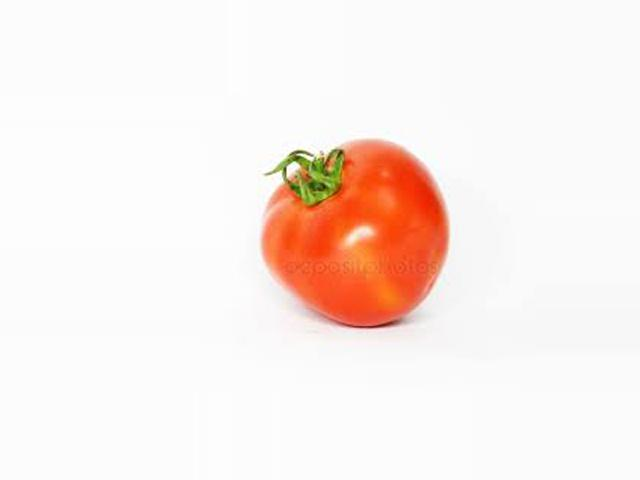tomato: (261, 136, 448, 326)
